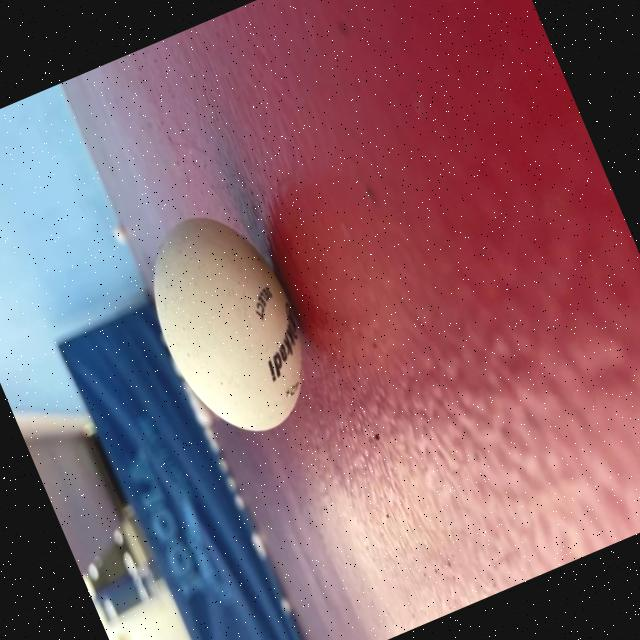ping-pong-ball: (100, 150, 364, 482)
